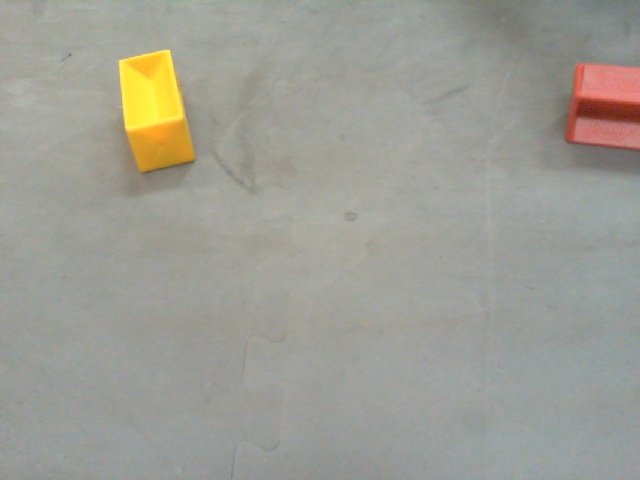RedSample: (565, 65, 640, 150)
YellowSample: (116, 50, 194, 175)
